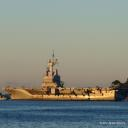Portanaves: (2, 49, 128, 103)
